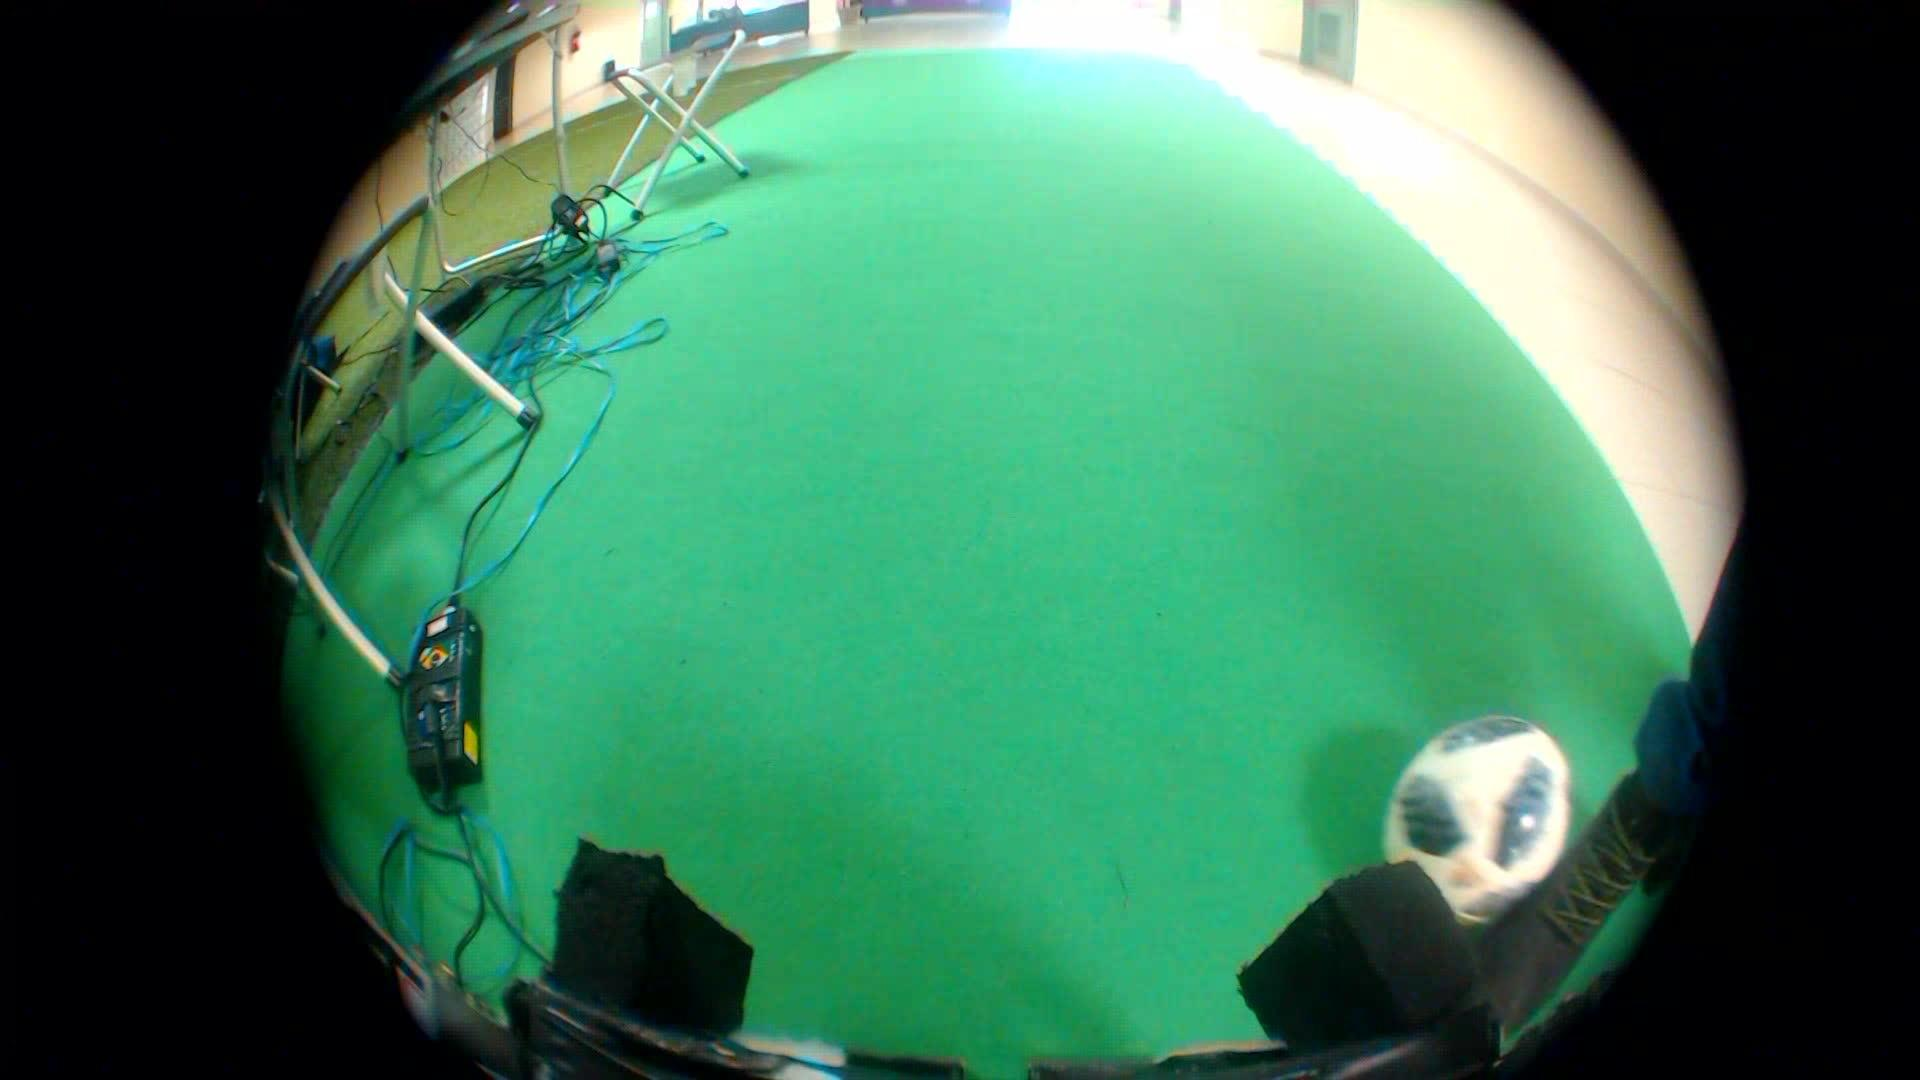ball: (1365, 688, 1619, 957)
